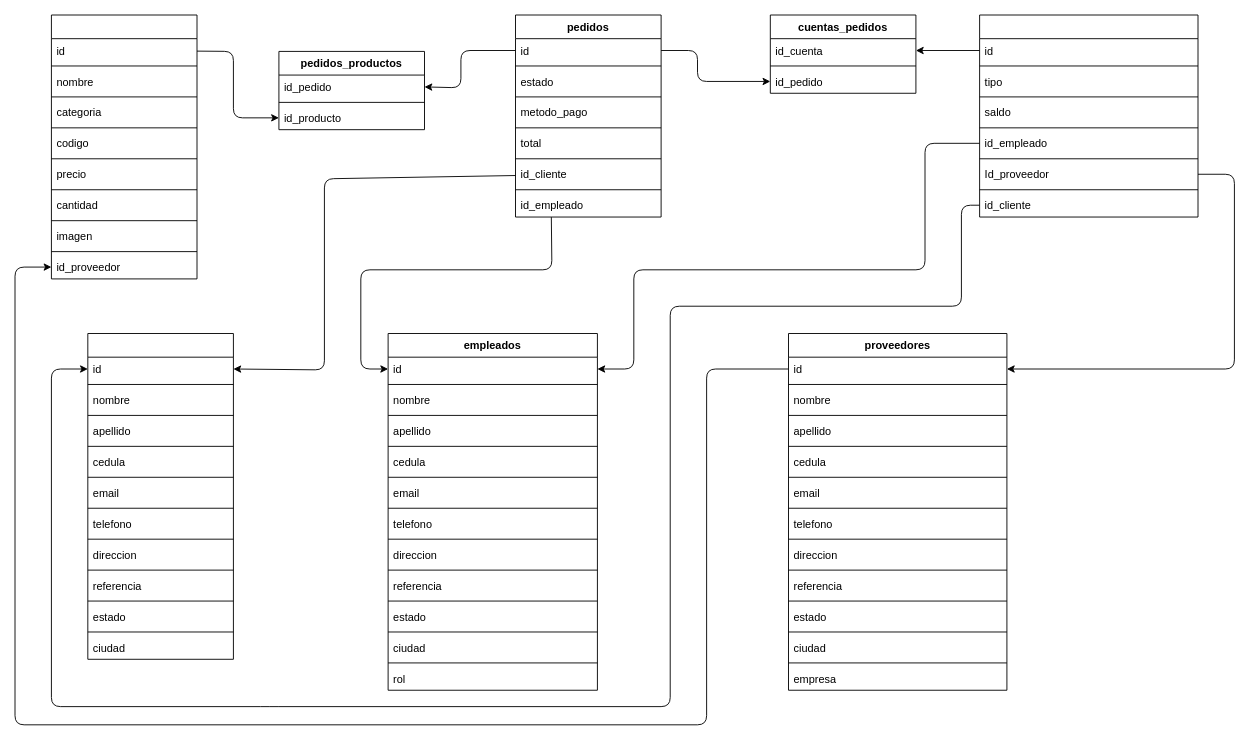
Image size: 1249x740. Some labels were removed from this diagram. Each missing label, with the box of its shape:
clientes: (87, 333, 233, 659)
cuentas: (979, 14, 1198, 217)
productos: (51, 14, 197, 279)
